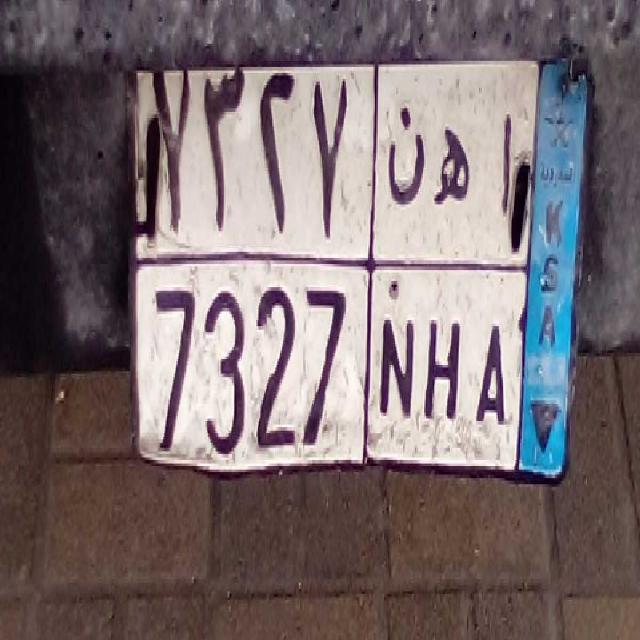license_plate: (138, 248, 516, 480)
